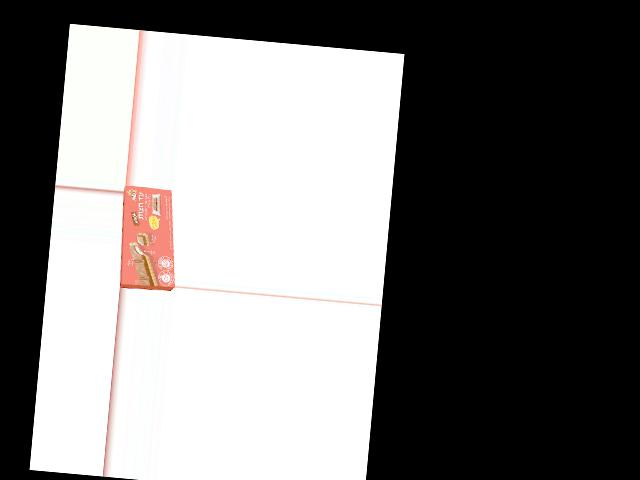chocolate: (119, 184, 177, 291)
